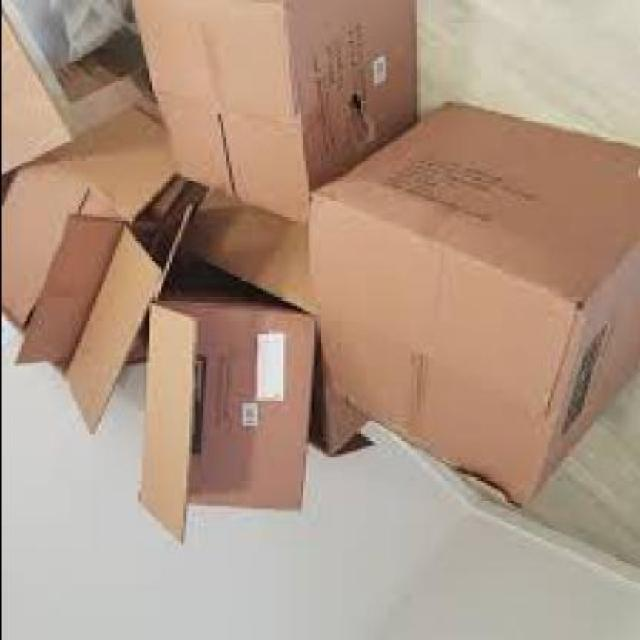CARDBOARD: (298, 100, 637, 506), (0, 100, 194, 429), (128, 0, 414, 223), (182, 202, 378, 455), (131, 294, 315, 543), (2, 5, 69, 174), (62, 60, 136, 120)
